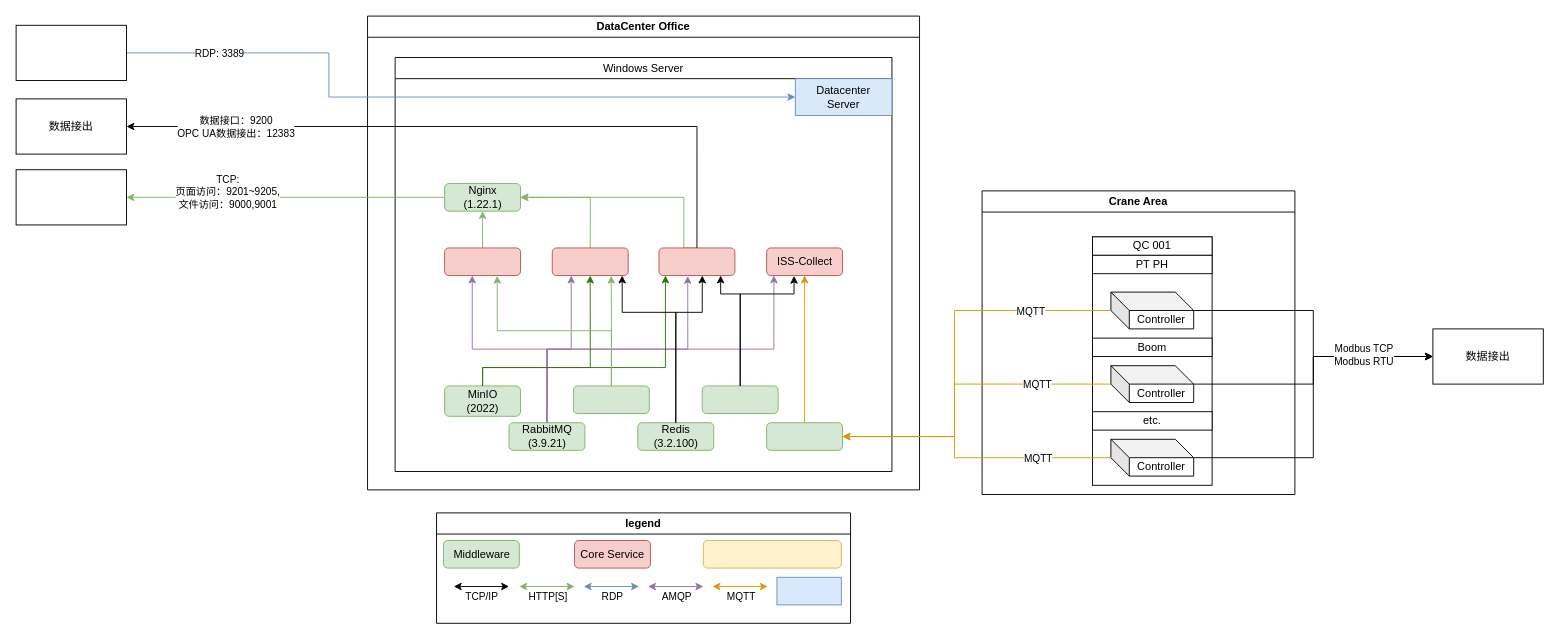
Image size: 1559x639. Some labels were removed from this diagram. Each missing label, with the centre of its shape:
"Data Transport Service" goes at point 771,554.
"HTTP[S] access" goes at point 70,197.
"InfluxDB (1.8.10)" goes at point 611,399.
"ISS-Algorithm" goes at point 482,261.
"ISS-Platform" goes at point 696,261.
"ISS-Storage" goes at point 589,261.
"MQTT (5.0.23)" goes at point 804,436.
"MySQL (5.7.39)" goes at point 739,399.
"RDP访问" goes at point 70,52.
"Server" goes at point 808,590.
